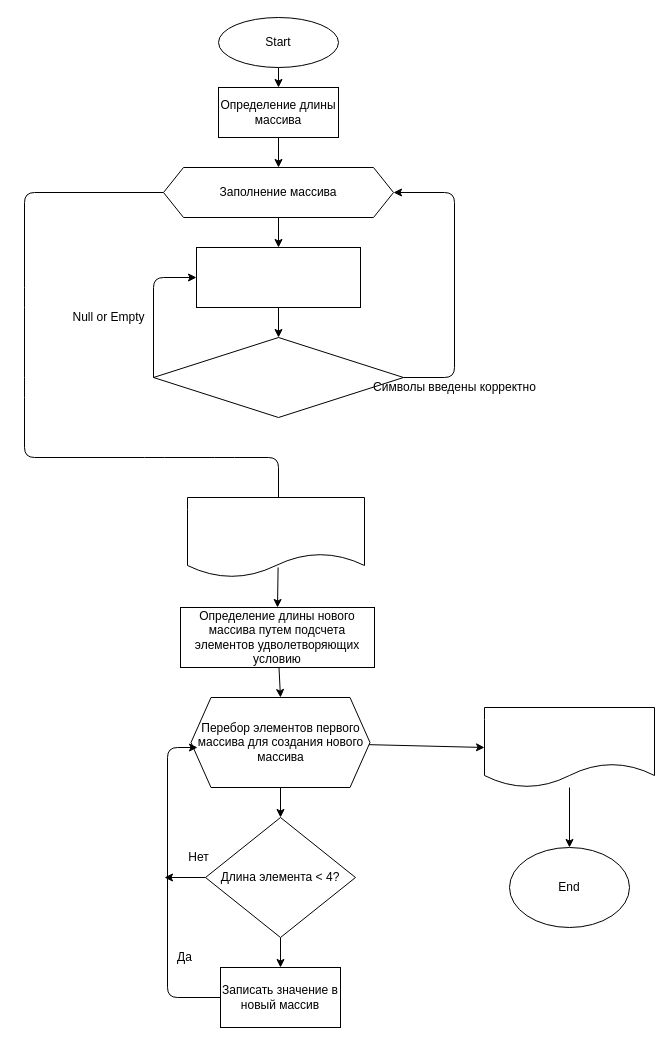
Some shapes in this 672 by 1045 pixel diagram are drawn without their labels. Each missing label, with the centre of its shape:
Ввод сиволов в консоли: point 278,277
Вывод массива на консоль: point 275,537
Вывод нового массива на консоль: point 569,747
Проверка введенного значени на null: point 278,377
